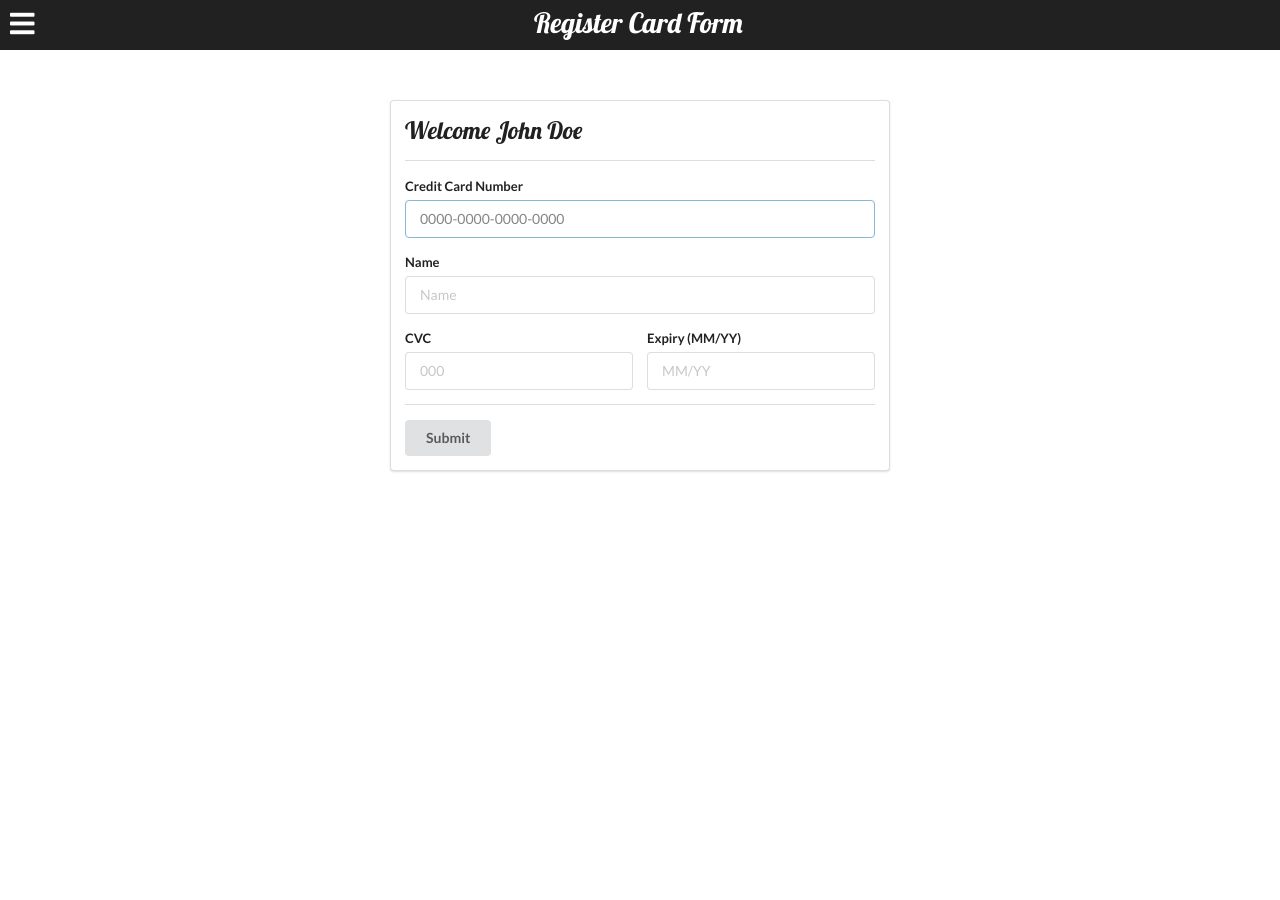
open and close menu
click the menu icon to open the menu
Click the icon with test id "menu-icon" at (16, 14), box [0, 0, 33, 28]
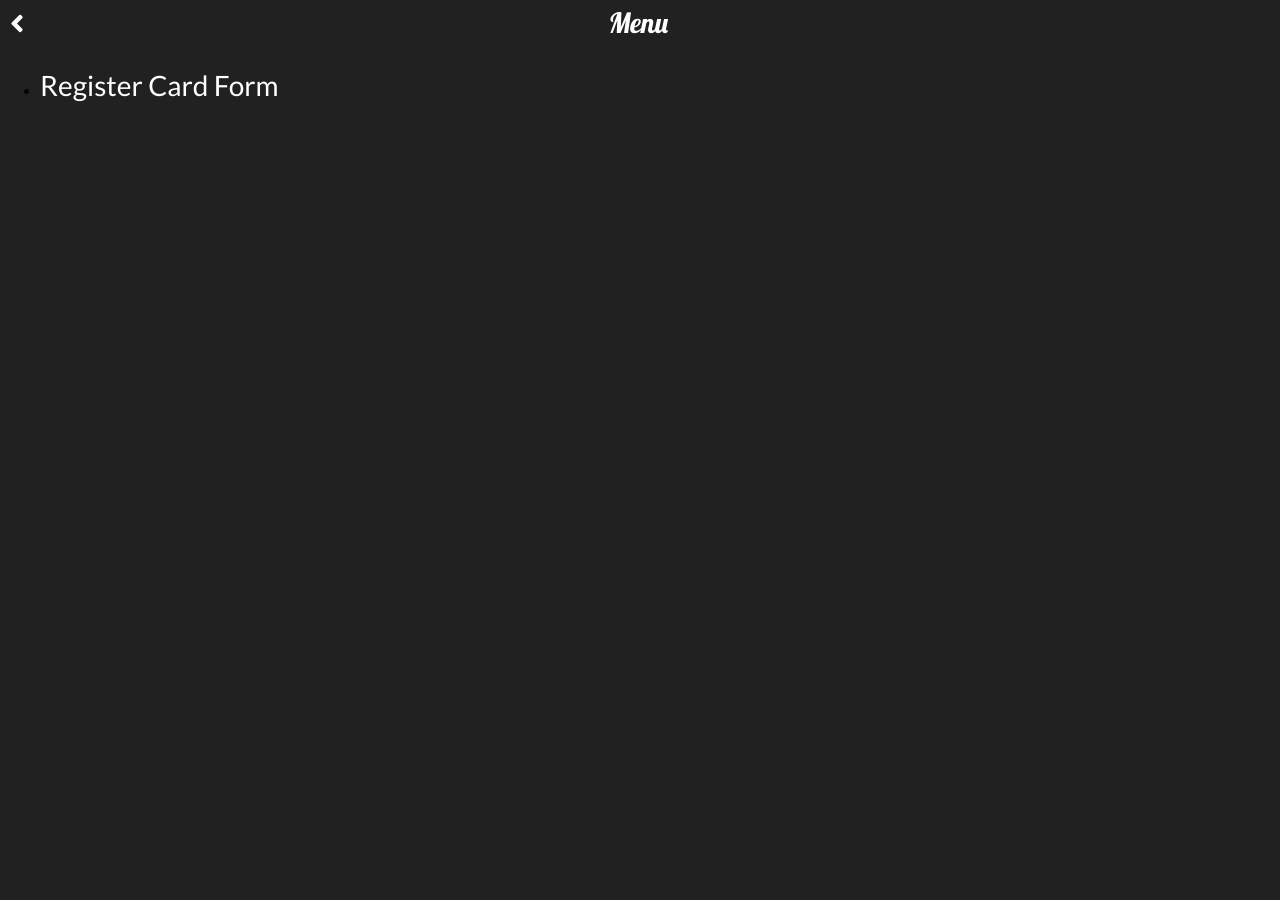
Now the heading "Menu" is shown, box [608, 5, 668, 36]
click the menu icon again to close the menu
Click the icon with test id "menu-icon" at (16, 14), box [0, 0, 33, 28]
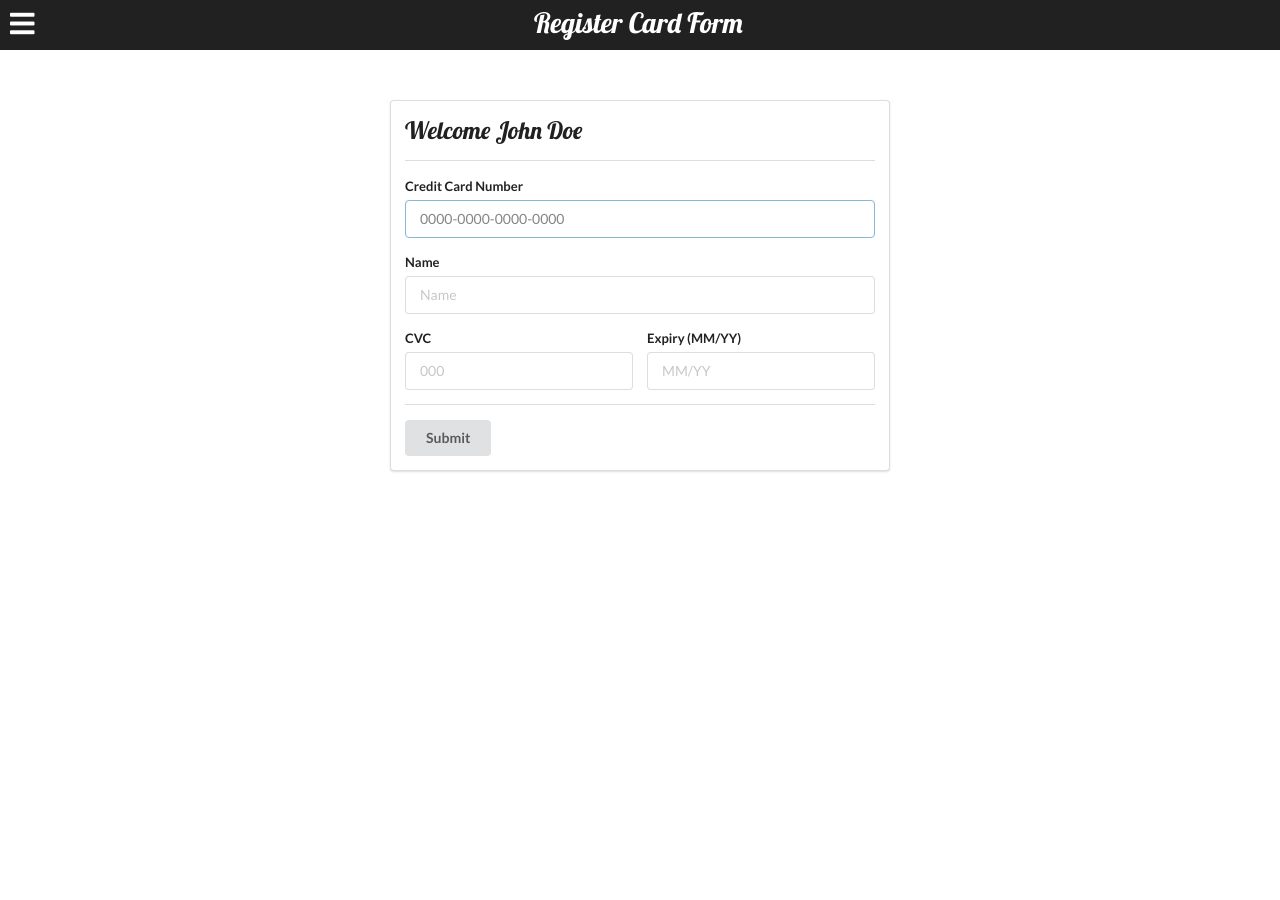
Now the heading "Register Card Form" is shown, box [534, 5, 743, 36]
